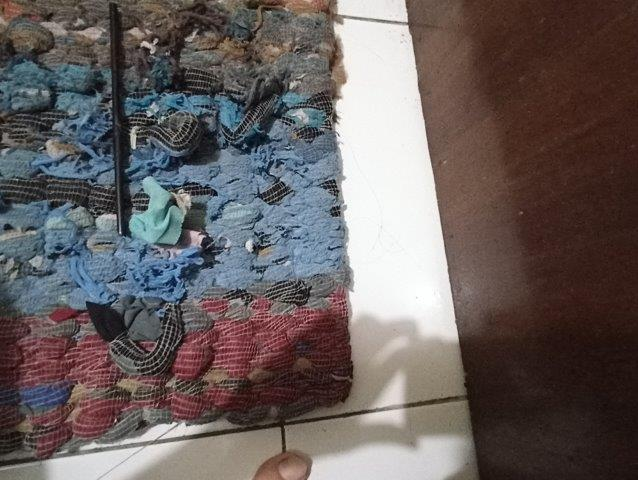sedotan: (109, 4, 128, 236)
